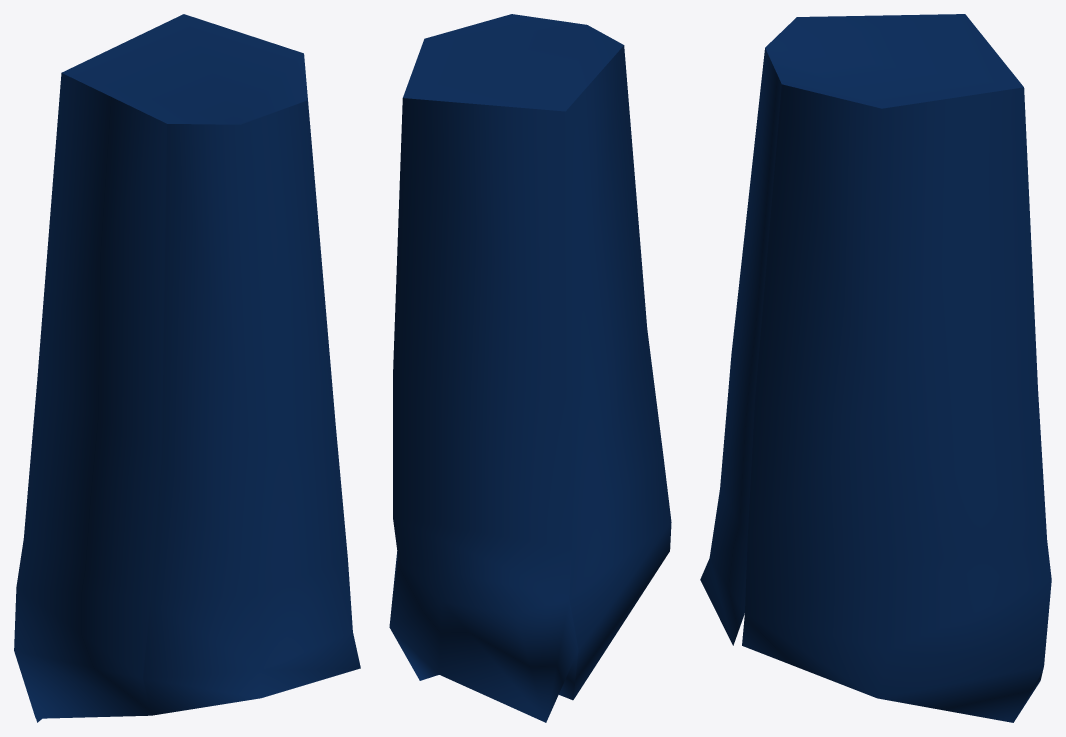
Rendered from right_forearm.glb.
3 renders of one model, left to right at view 1: azimuth 30°, elevation 25°; view 2: azimuth 150°, elevation 25°; view 3: azimuth 270°, elevation 25°, orthographic. The views are drawn at different scales.
Visible parts, largest first — view 1: sweater-navy_RIGHT_FOREARM; view 2: sweater-navy_RIGHT_FOREARM; view 3: sweater-navy_RIGHT_FOREARM.
Part boxes in pixels (x1,y1,x2,y2): sweater-navy_RIGHT_FOREARM: (14, 14, 360, 722); sweater-navy_RIGHT_FOREARM: (389, 14, 671, 722); sweater-navy_RIGHT_FOREARM: (700, 14, 1051, 722).
Size of the model in its own units: 0.1155 by 0.2924 by 0.1405.
1 material, 1 textured.
